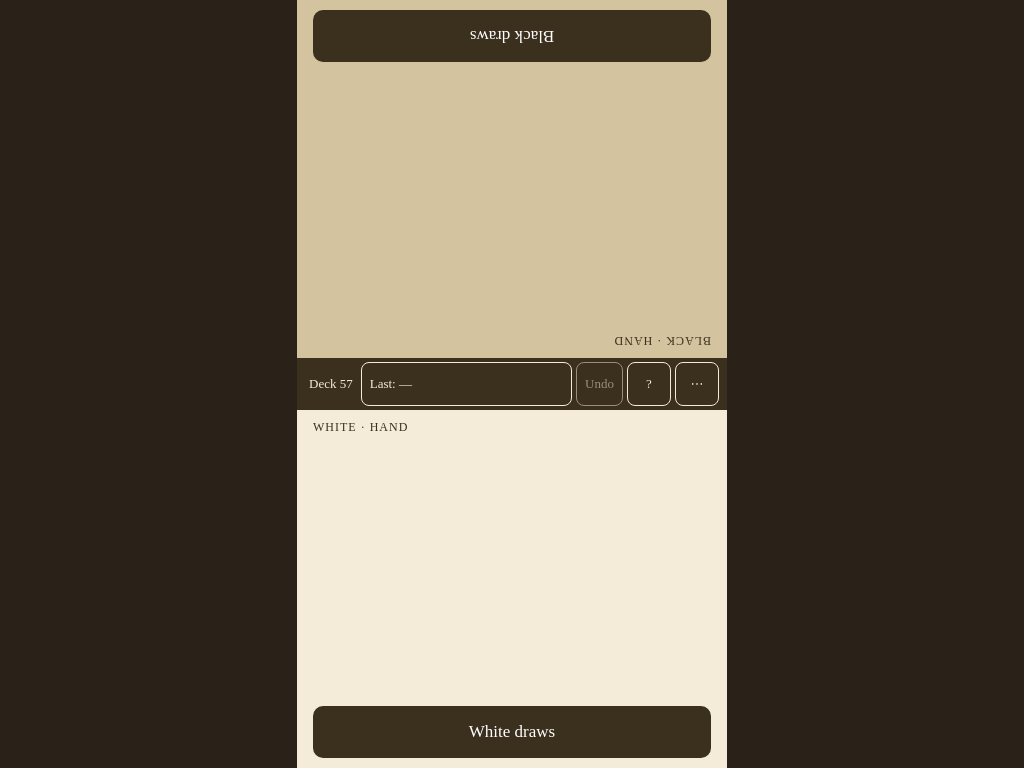
it: the menu opens the form with no type
Click the button "⋯": point(697, 384) 675,362 -> 719,406
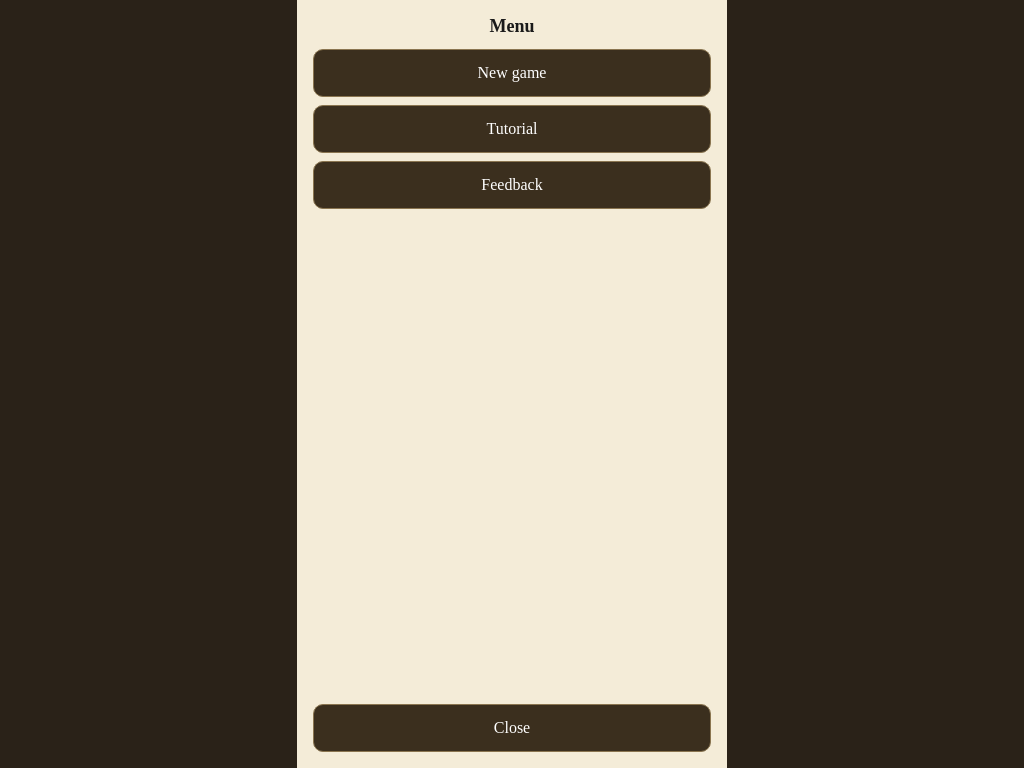
Click the button "Feedback": point(512, 185) 313,161 -> 711,209
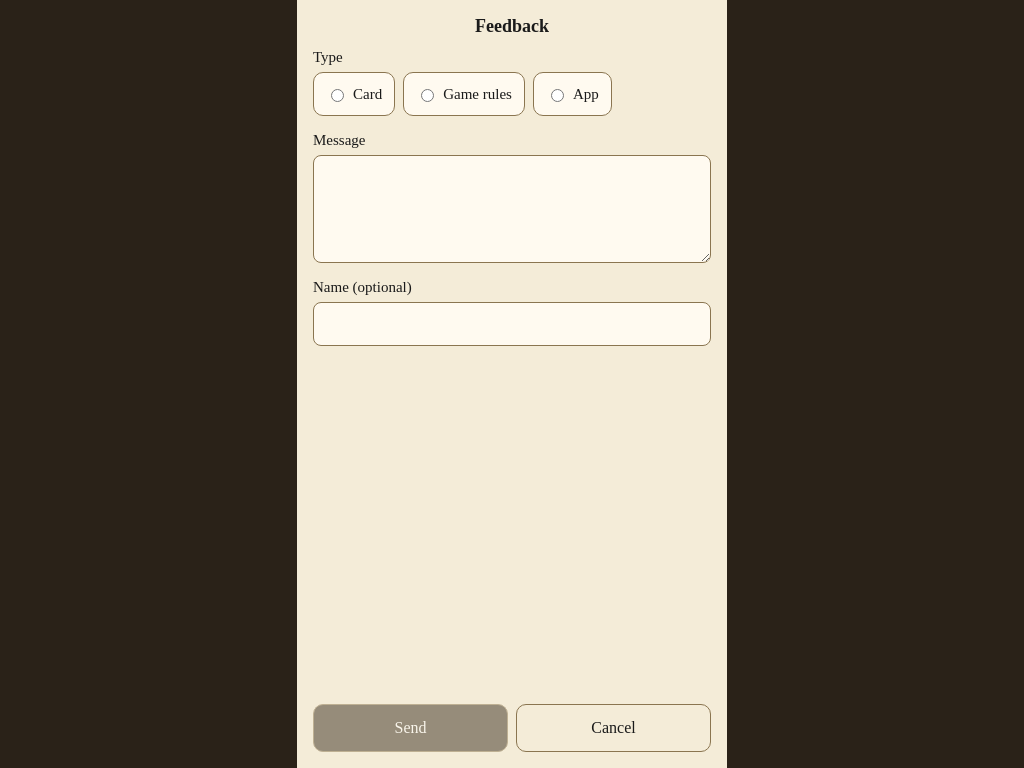
Now the radio button labelled "Card" is not checked, box 331,89 -> 344,102
Now the radio button labelled "Game rules" is not checked, box 421,89 -> 434,102
Now the radio button labelled "App" is not checked, box 551,89 -> 564,102
